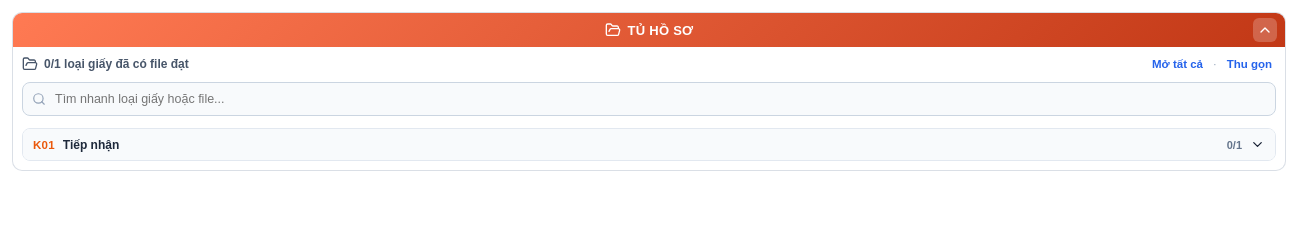
Scenario: DocumentCabinet › fallback về cabinet_by_node khi hợp đồng chưa khởi tạo checklist runtime
Click the button "K01 Tiếp nhận 0/1". click: (91, 144)
box: [23, 129, 1275, 160]
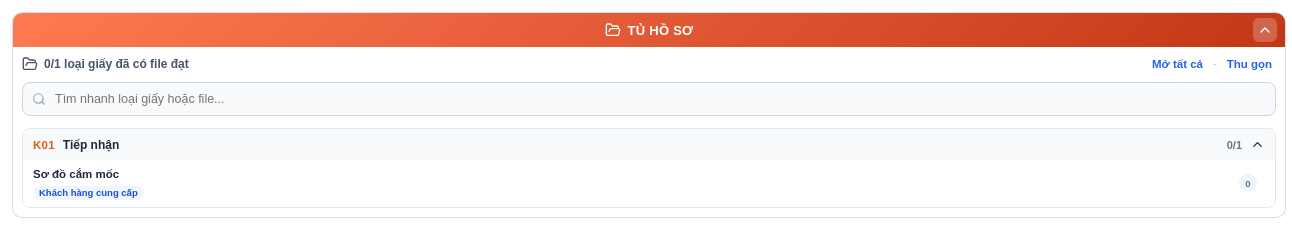
Check: the text "Sơ đồ cắm mốc" is shown, box [33, 168, 119, 180]
